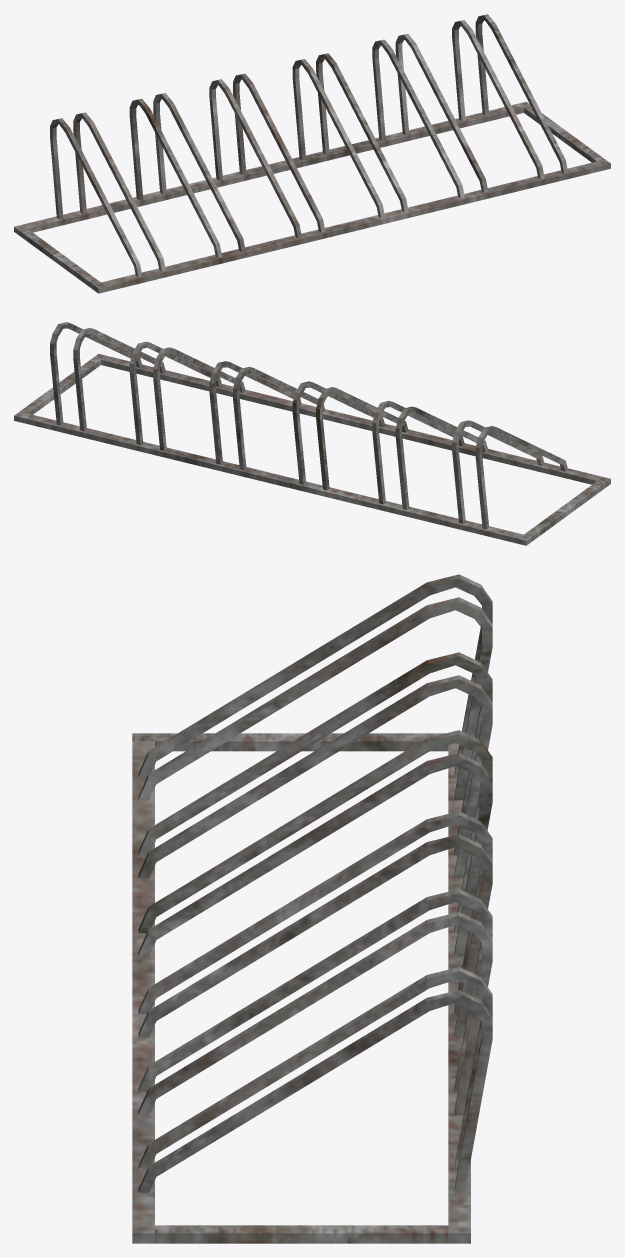
The model's file is bikeRack.glb.
3 renders of one model, top to bottom at view 1: azimuth 30°, elevation 25°; view 2: azimuth 150°, elevation 25°; view 3: azimuth 270°, elevation 25°, orthographic. The views are drawn at different scales.
Visible parts, largest first — view 1: SM_BikeParking; view 2: SM_BikeParking; view 3: SM_BikeParking.
Boxes of the visible parts, x1,y1,x2,y2 form: SM_BikeParking: [14, 14, 610, 293]; SM_BikeParking: [14, 322, 610, 545]; SM_BikeParking: [132, 574, 492, 1243].
Bounding box in the file's own units: 4.44 × 0.8676 × 1.35.
Materials: 1 (1 with a texture image).
